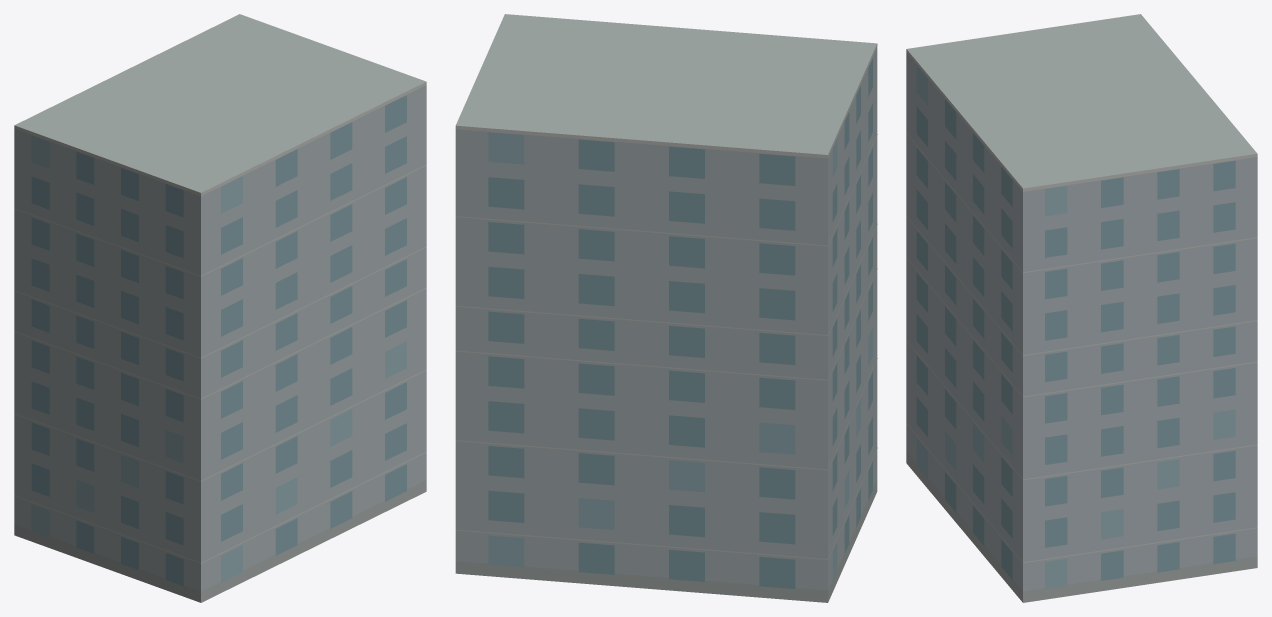
Rendered from residential-66b9ca15-be1f-4a1c-a1e9-ca7d55751be3.glb.
3 views of the same model, side by side, from view 1: azimuth 30°, elevation 25°; view 2: azimuth 150°, elevation 25°; view 3: azimuth 270°, elevation 25° (orthographic). The views are drawn at different scales.
Parts seen in each view (by area): view 1: residential-66b9ca15-be1f-4a1c-a1e9-ca7d55751be3.tmp; view 2: residential-66b9ca15-be1f-4a1c-a1e9-ca7d55751be3.tmp; view 3: residential-66b9ca15-be1f-4a1c-a1e9-ca7d55751be3.tmp.
Part boxes in pixels (x1,y1,x2,y2): residential-66b9ca15-be1f-4a1c-a1e9-ca7d55751be3.tmp: [14, 14, 426, 602]; residential-66b9ca15-be1f-4a1c-a1e9-ca7d55751be3.tmp: [455, 14, 877, 602]; residential-66b9ca15-be1f-4a1c-a1e9-ca7d55751be3.tmp: [906, 14, 1257, 602].
Size of the model in its own units: 27.59 by 30.5 by 23.45.
